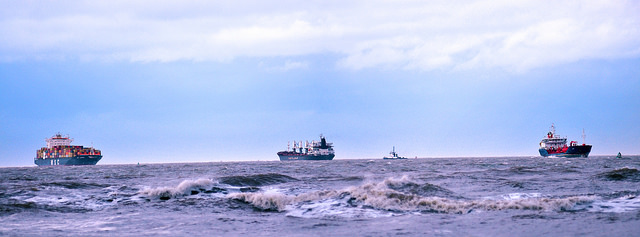bulk carrier: (533, 123, 592, 157), (278, 134, 336, 162)
container_ship: (35, 132, 105, 166)
tug_boat: (377, 145, 406, 161)
